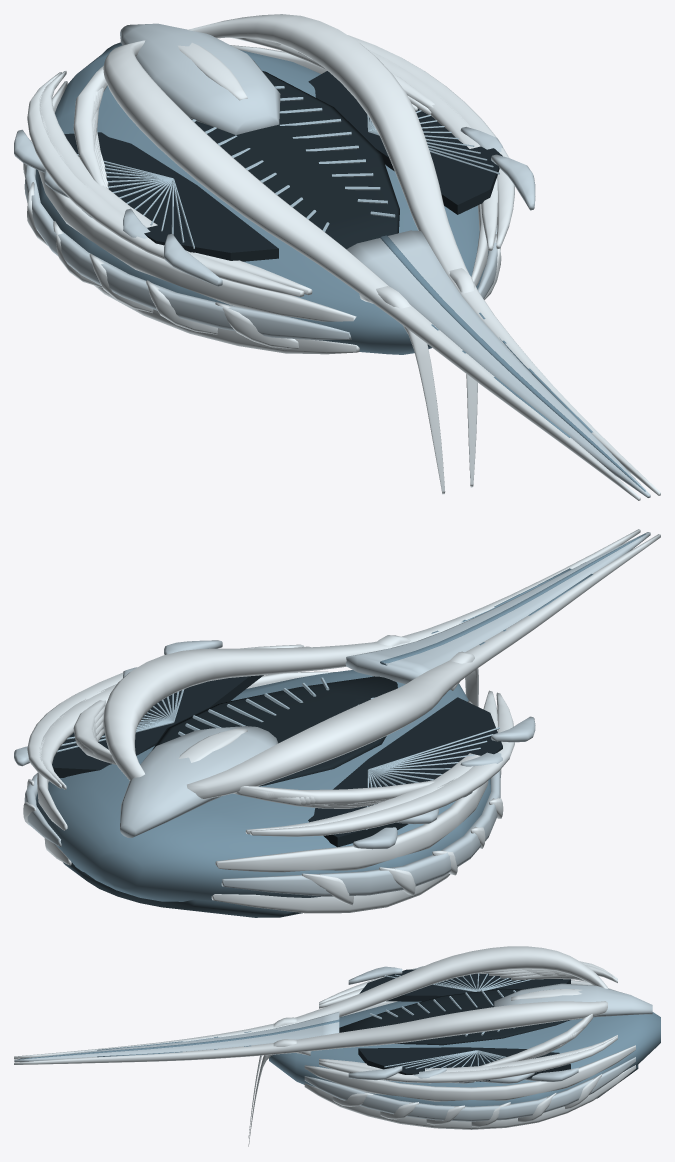
File: body_v2.glb
3 renders of one model, top to bottom at view 1: azimuth 30°, elevation 25°; view 2: azimuth 150°, elevation 25°; view 3: azimuth 270°, elevation 25°, orthographic. The views are drawn at different scales.
Visible parts, largest first — view 1: Yoke_Continuous_-1, Yoke_Continuous_1, Hull_Continuous_Keel, Crown_Recess_Core, Forward_Lance_Inner_Blade, Dorsal_Carapace, Wing_Dark_Vent_-1, Wing_Side_Armor_Layer_-1_1, Wing_Side_Armor_Layer_-1_2, Wing_Dark_Vent_1, Wing_Swept_Armour_-1_1, Wing_Swept_Armour_-1_0 (+14 smaller); view 2: Hull_Continuous_Keel, Yoke_Continuous_-1, Yoke_Continuous_1, Dorsal_Carapace, Wing_Dark_Vent_-1, Crown_Recess_Core, Forward_Lance_Inner_Blade, Wing_Side_Armor_Layer_-1_1, Wing_Side_Armor_Layer_-1_2, Wing_Swept_Armour_-1_1, Wing_Dark_Vent_1, Wing_Side_Armor_Layer_-1_0 (+15 smaller); view 3: Hull_Continuous_Keel, Yoke_Continuous_1, Yoke_Continuous_-1, Wing_Side_Armor_Layer_1_2, Wing_Side_Armor_Layer_1_1, Crown_Recess_Core, Forward_Lance_Inner_Blade, Wing_Dark_Vent_1, Wing_Swept_Armour_1_1, Dorsal_Carapace, Wing_Side_Armor_Layer_1_0, Wing_Dark_Vent_-1 (+14 smaller).
Part boxes in pixels (x1,y1,x2,y2): Yoke_Continuous_-1: (103,40,640,500); Yoke_Continuous_1: (188,14,660,495); Hull_Continuous_Keel: (35,42,488,354); Crown_Recess_Core: (189,71,399,249); Forward_Lance_Inner_Blade: (346,230,650,497); Dorsal_Carapace: (120,23,280,134); Wing_Dark_Vent_-1: (64,132,278,261); Wing_Side_Armor_Layer_-1_1: (24,165,351,340); Wing_Side_Armor_Layer_-1_2: (38,81,356,321); Wing_Dark_Vent_1: (308,71,502,214); Wing_Swept_Armour_-1_1: (27,72,304,297); Wing_Swept_Armour_-1_0: (39,71,312,295); Hull_Continuous_Keel: (35,670,490,901); Yoke_Continuous_-1: (187,534,660,799); Yoke_Continuous_1: (103,529,640,780); Dorsal_Carapace: (120,726,278,837); Wing_Dark_Vent_-1: (308,697,502,847); Crown_Recess_Core: (152,676,397,786); Forward_Lance_Inner_Blade: (345,532,650,683); Wing_Side_Armor_Layer_-1_1: (221,770,500,896); Wing_Side_Armor_Layer_-1_2: (215,701,488,872); Wing_Swept_Armour_-1_1: (250,692,514,836); Wing_Dark_Vent_1: (52,675,263,777); Wing_Side_Armor_Layer_-1_0: (211,873,450,913); Hull_Continuous_Keel: (269,1001,660,1106); Yoke_Continuous_1: (14,1001,607,1064); Yoke_Continuous_-1: (14,946,607,1058); Wing_Side_Armor_Layer_1_2: (304,1045,635,1101); Wing_Side_Armor_Layer_1_1: (304,1057,635,1121); Crown_Recess_Core: (339,988,569,1045); Forward_Lance_Inner_Blade: (14,1012,339,1061); Wing_Dark_Vent_1: (358,1047,570,1081); Wing_Swept_Armour_1_1: (319,1036,617,1083); Dorsal_Carapace: (494,983,652,1020); Wing_Side_Armor_Layer_1_0: (304,1065,635,1129); Wing_Dark_Vent_-1: (359,969,570,1001).
Bounding box in the file's own units: 11.78 × 7.62 × 27.15.
